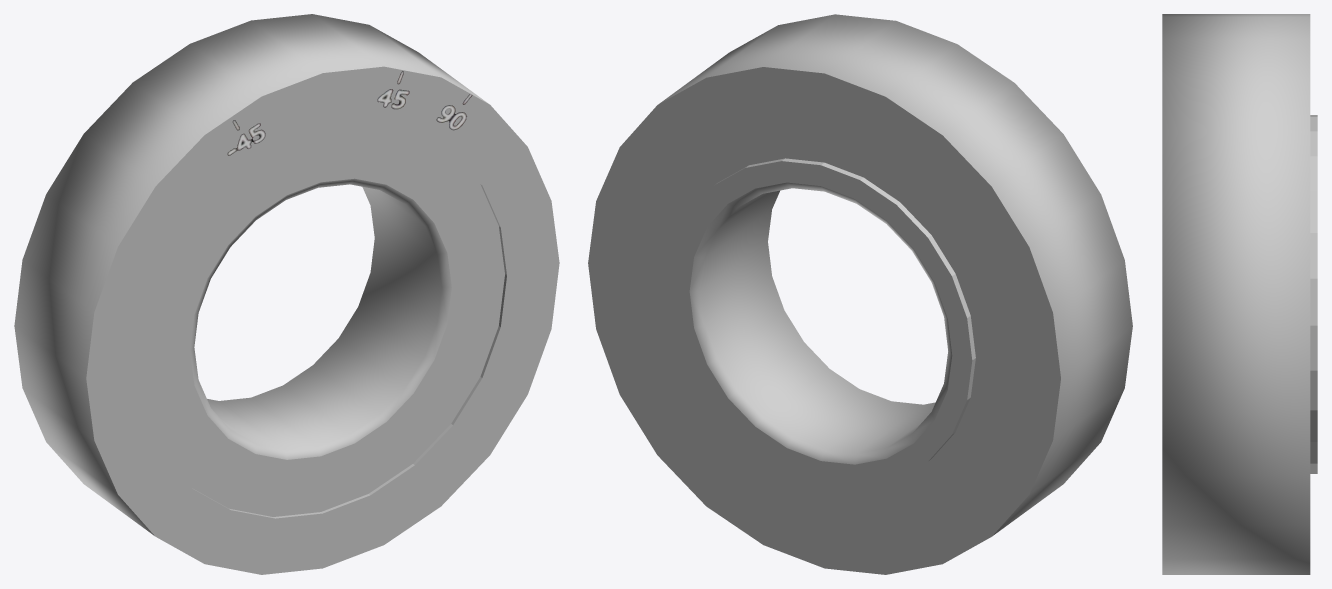
The model's file is RSP1.fbx.
3 renders of one model, left to right at view 1: azimuth 30°, elevation 25°; view 2: azimuth 150°, elevation 25°; view 3: azimuth 270°, elevation 25°, orthographic. The views are drawn at different scales.
Visible parts, largest first — view 1: RSP1; view 2: RSP1; view 3: RSP1.
Boxes of the visible parts, x1,y1,x2,y2 form: RSP1: (14, 14, 559, 574); RSP1: (588, 14, 1132, 574); RSP1: (1162, 14, 1317, 574).
Bounding box in the file's own units: 4.63 × 4.63 × 1.29.
